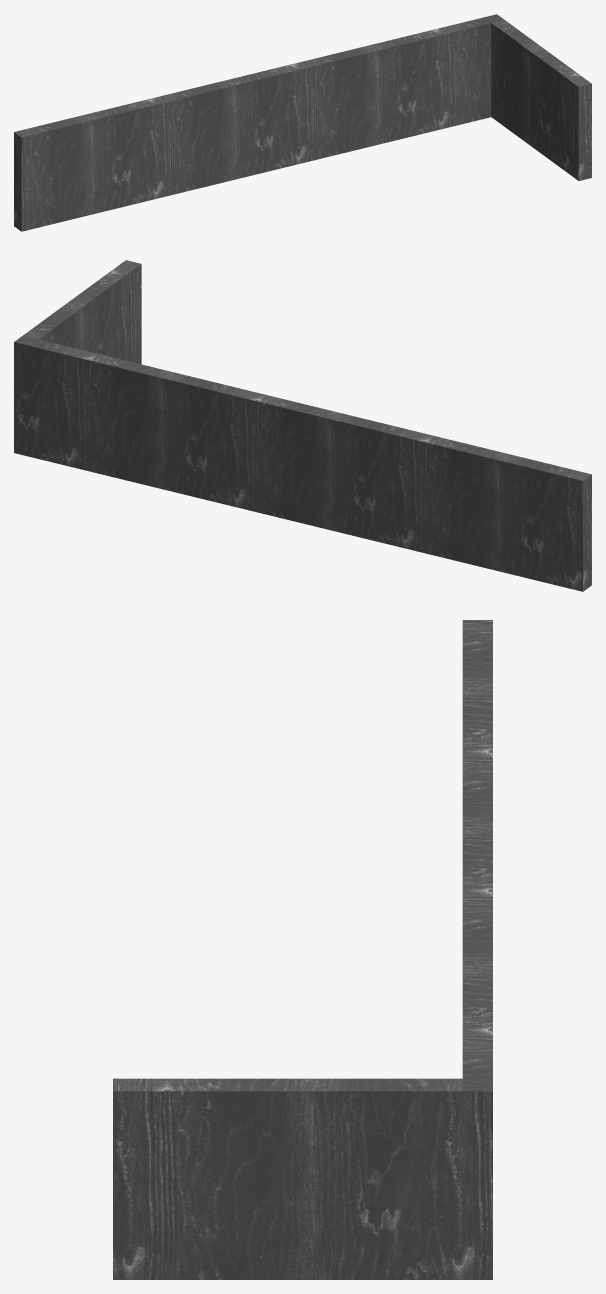
Rendered from ADSK_18.obj.
3 renders of one model, top to bottom at view 1: azimuth 30°, elevation 25°; view 2: azimuth 150°, elevation 25°; view 3: azimuth 270°, elevation 25°, orthographic. The views are drawn at different scales.
Size of the model in its own units: 4.4 by 0.82 by 1.5.
1 material, 1 textured.
